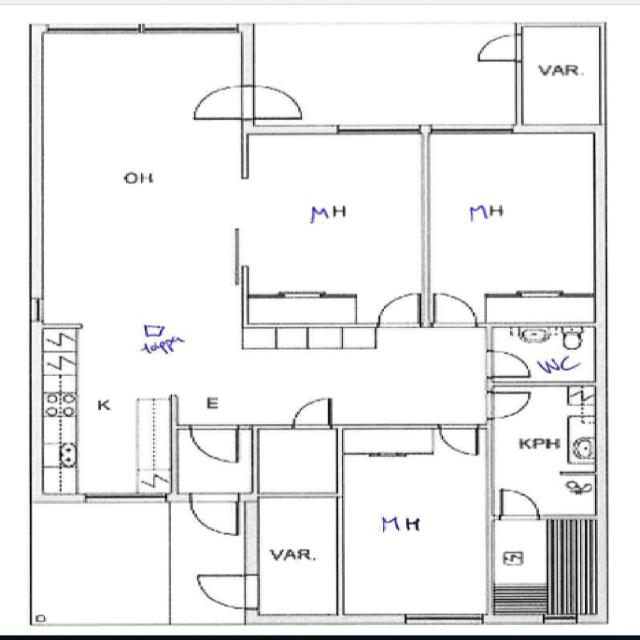door: (242, 85, 302, 118), (190, 494, 237, 535), (198, 576, 258, 608), (190, 425, 239, 463), (378, 294, 419, 328), (434, 294, 475, 328), (438, 425, 478, 457), (486, 393, 531, 419), (486, 351, 530, 377), (293, 400, 330, 430), (501, 488, 538, 518), (479, 34, 521, 60)
